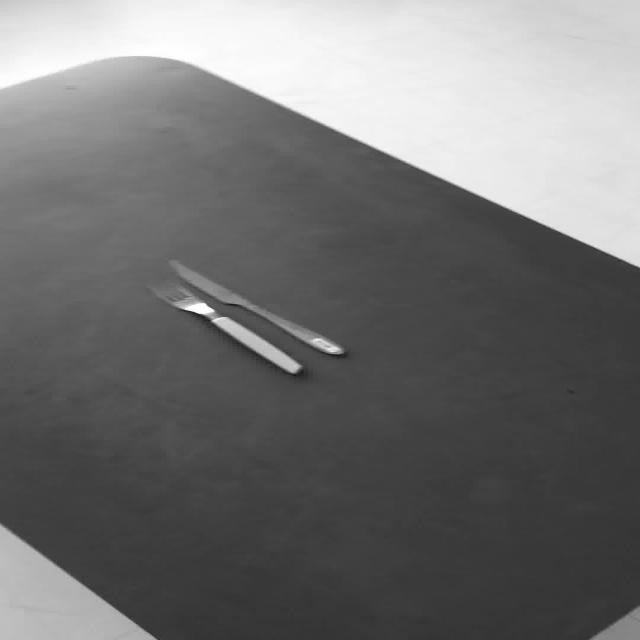fork: (145, 276, 303, 376)
knife fork: (166, 258, 346, 355), (145, 275, 303, 376)
